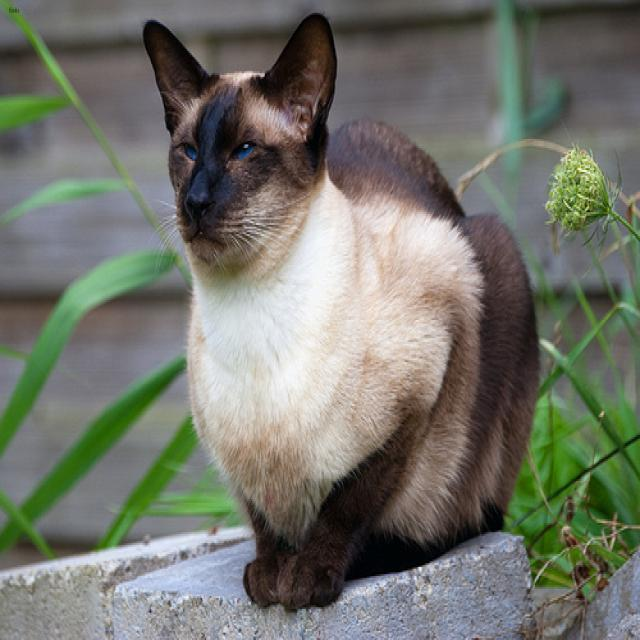Siamese: (141, 6, 339, 282)
